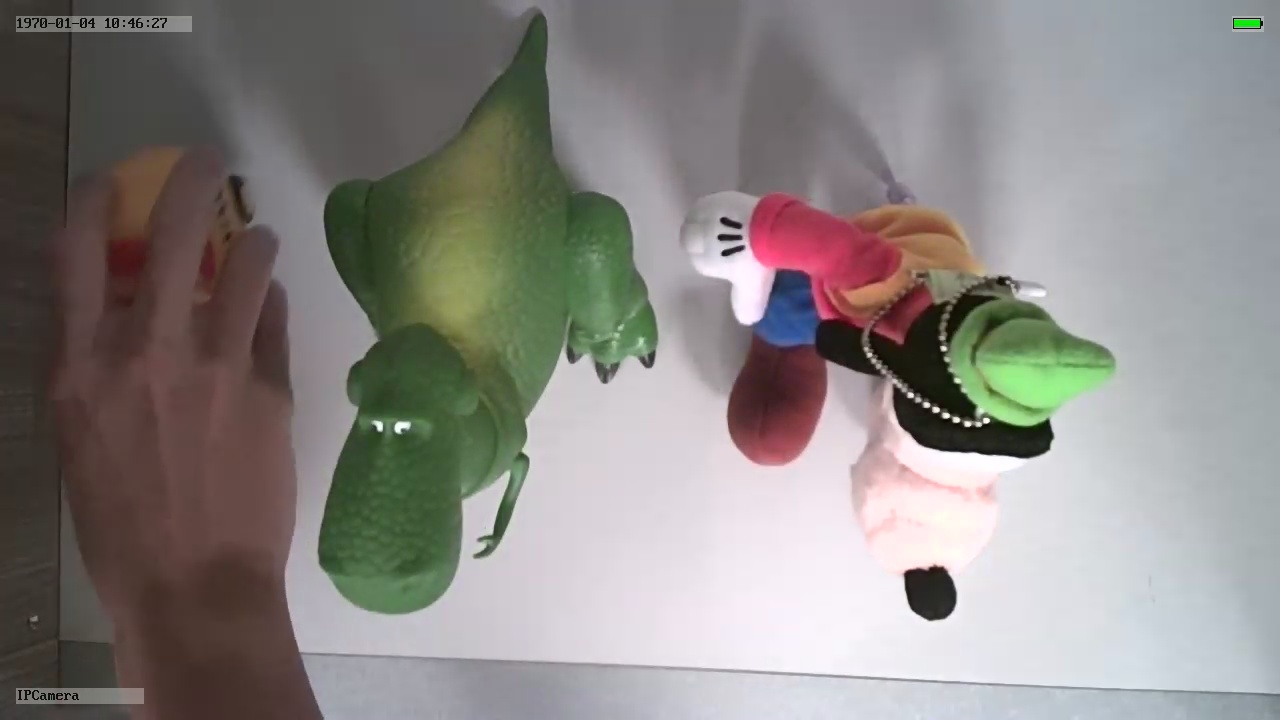goofy: (672, 187, 1118, 623)
rex: (312, 83, 659, 619)
